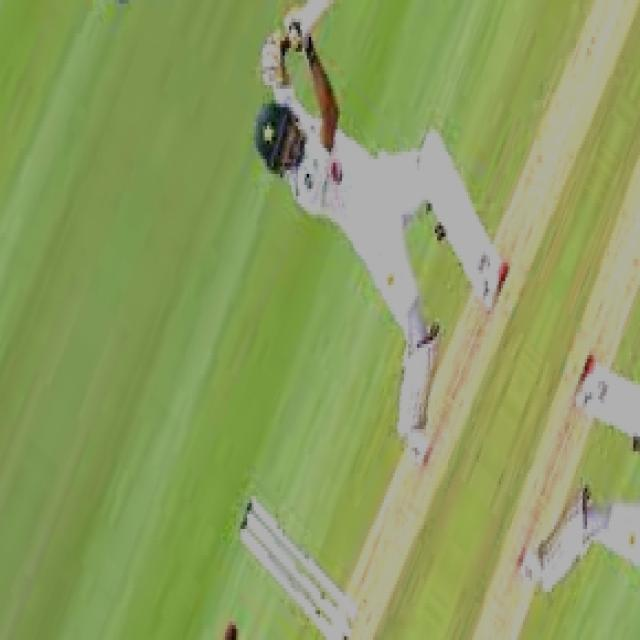bat: (286, 0, 331, 32)
